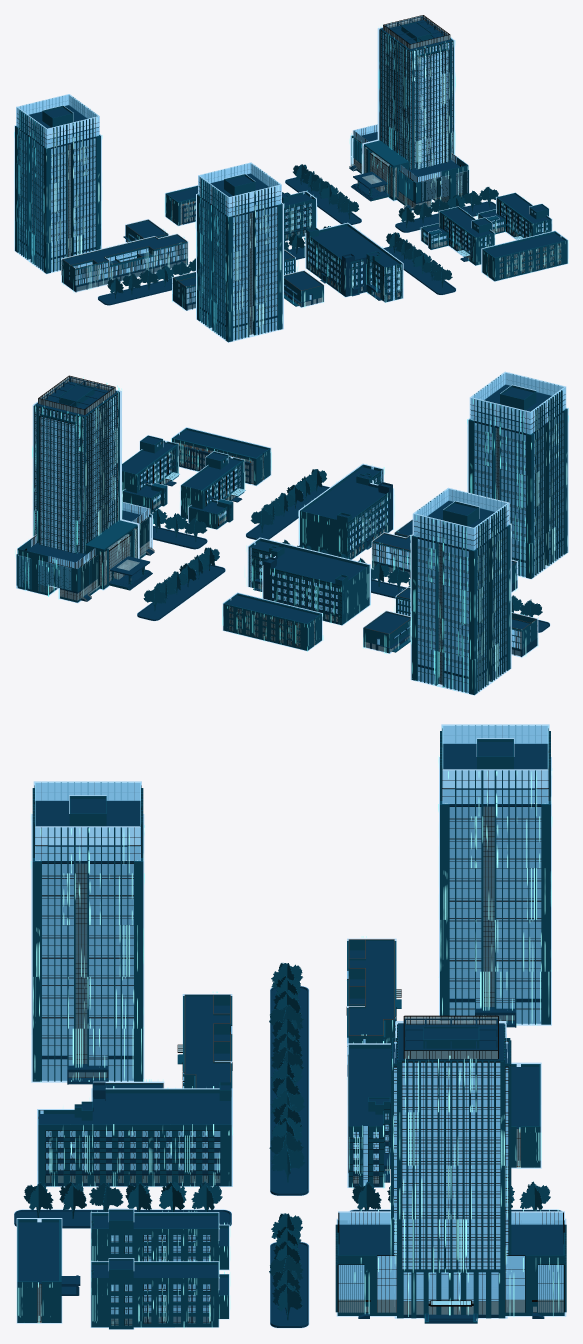
The picture shows the model from 3 angles, top to bottom: view 1: azimuth 30°, elevation 25°; view 2: azimuth 150°, elevation 25°; view 3: azimuth 270°, elevation 25°; orthographic projection. The views are drawn at different scales.
Parts seen in each view (by area): view 1: 高楼1.001, 高楼2.001, 高楼2, 转角楼2, 转角楼1, 方楼.001, 转角楼3, 分隔带_中.002, 转角楼1.001, 转角楼3.001, 分隔带_中.001, 分隔带_中.003 (+7 smaller); view 2: 高楼1.001, 高楼2, 高楼2.001, 转角楼2.001, 转角楼2, 方楼, 转角楼3, 转角楼3.001, 转角楼1, 方楼.001, 分隔带_中.003, 分隔带_中.004 (+8 smaller); view 3: 高楼1.001, 高楼2.001, 高楼2, 转角楼2, 转角楼3.001, 分隔带_中.002, 转角楼3, 转角楼2.001, 转角楼1, 转角楼1.001, 方楼.001, 分隔带_中.001 (+7 smaller).
Boxes of the visible parts, left/top/right/bottom form: 高楼1.001: left=349, top=15, right=469, bottom=210; 高楼2.001: left=196, top=162, right=283, bottom=342; 高楼2: left=14, top=94, right=101, bottom=274; 转角楼2: left=305, top=222, right=403, bottom=302; 转角楼1: left=61, top=219, right=188, bottom=292; 方楼.001: left=481, top=230, right=568, bottom=281; 转角楼3: left=420, top=206, right=494, bottom=265; 分隔带_中.002: left=98, top=226, right=330, bottom=305; 转角楼1.001: left=172, top=249, right=324, bottom=310; 转角楼3.001: left=478, top=192, right=552, bottom=239; 分隔带_中.001: left=97, top=177, right=498, bottom=305; 分隔带_中.003: left=285, top=164, right=361, bottom=224; 高楼1.001: left=16, top=375, right=154, bottom=603; 高楼2: left=410, top=487, right=511, bottom=695; 高楼2.001: left=467, top=371, right=568, bottom=579; 转角楼2.001: left=247, top=537, right=370, bottom=625; 转角楼2: left=298, top=463, right=393, bottom=559; 方楼: left=222, top=592, right=322, bottom=651; 转角楼3: left=180, top=451, right=245, bottom=529; 转角楼3.001: left=122, top=435, right=179, bottom=513; 转角楼1: left=363, top=587, right=538, bottom=657; 方楼.001: left=171, top=427, right=271, bottom=486; 分隔带_中.003: left=137, top=547, right=225, bottom=620; 分隔带_中.004: left=246, top=469, right=329, bottom=539; 高楼1.001: left=335, top=1015, right=566, bottom=1323; 高楼2.001: left=31, top=781, right=144, bottom=1084; 高楼2: left=439, top=724, right=551, bottom=1027; 转角楼2: left=37, top=1082, right=232, bottom=1186; 转角楼3.001: left=90, top=1258, right=229, bottom=1329; 分隔带_中.002: left=269, top=963, right=308, bottom=1195; 转角楼3: left=90, top=1208, right=229, bottom=1270; 转角楼2.001: left=347, top=1043, right=390, bottom=1187; 转角楼1: left=346, top=938, right=401, bottom=1076; 转角楼1.001: left=93, top=994, right=232, bottom=1088; 方楼.001: left=16, top=1218, right=80, bottom=1323; 分隔带_中.001: left=14, top=986, right=562, bottom=1328.
Bounding box in the file's own units: 88.06 × 31.17 × 58.63.
9 materials, 2 textured.
